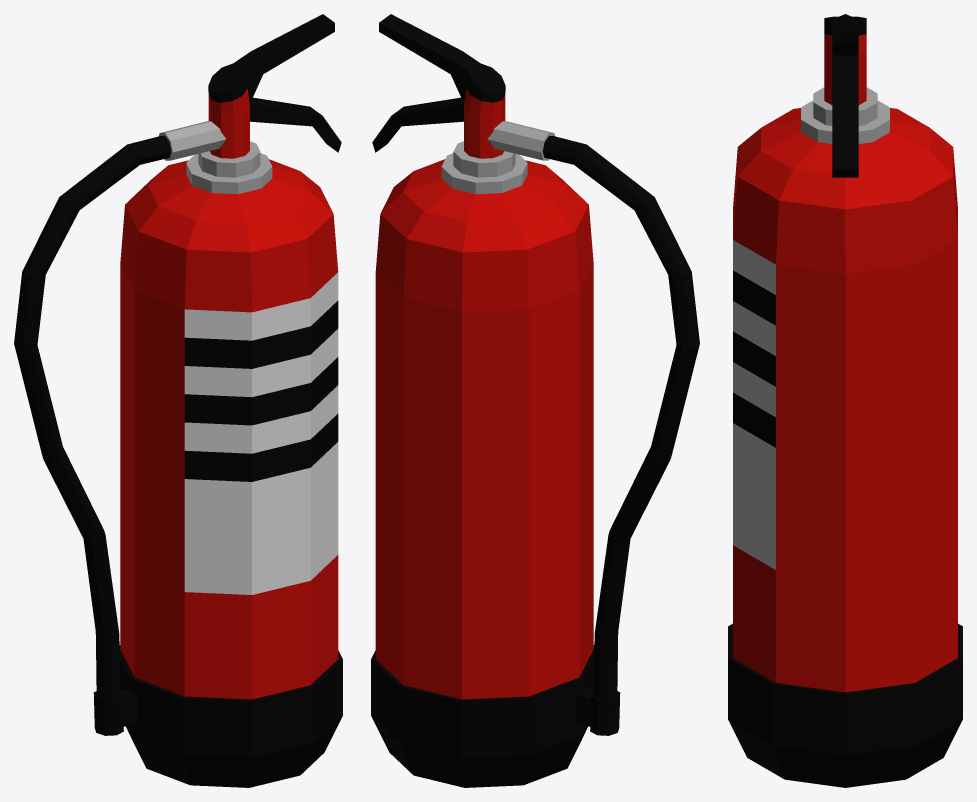
File: P_Extinguisher.fbx
3 views of the same model, side by side, from view 1: azimuth 30°, elevation 25°; view 2: azimuth 150°, elevation 25°; view 3: azimuth 270°, elevation 25° (orthographic). The views are drawn at different scales.
Visible parts, largest first — view 1: P_Extinguisher; view 2: P_Extinguisher; view 3: P_Extinguisher.
Part boxes in pixels (x1,y1,x2,y2): P_Extinguisher: (14,14,342,787); P_Extinguisher: (371,14,699,787); P_Extinguisher: (728,14,962,787).
Bounding box in the file's own units: 226 × 133 × 476.
